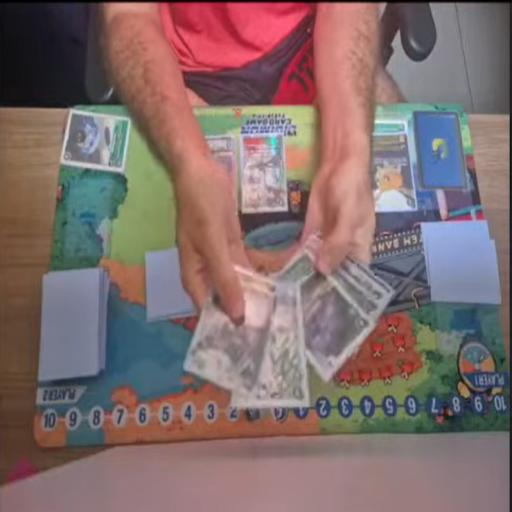card: (279, 252, 364, 378), (186, 275, 275, 394), (230, 280, 302, 411), (318, 231, 387, 319), (360, 134, 420, 218), (56, 109, 130, 175), (238, 128, 292, 213), (198, 130, 235, 181), (363, 113, 412, 139)
